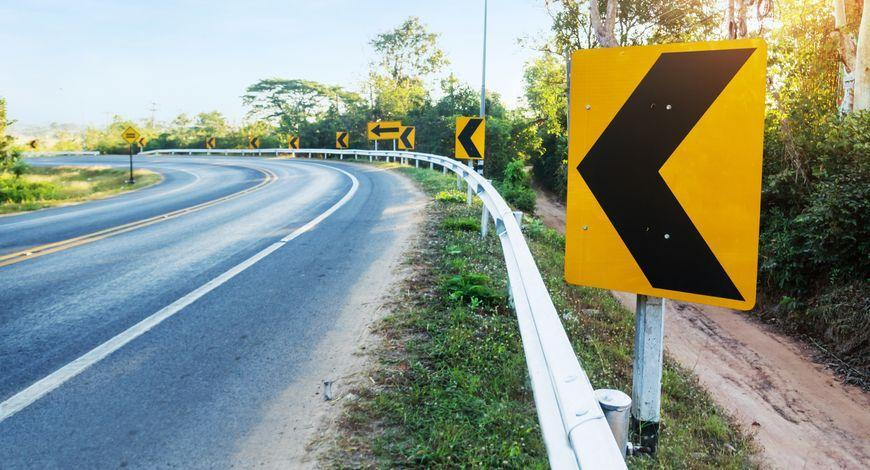indicator: (571, 47, 751, 298), (453, 116, 485, 161), (365, 121, 401, 139), (396, 126, 416, 153), (333, 133, 350, 148), (247, 136, 266, 148), (204, 136, 219, 149), (287, 135, 300, 148), (136, 136, 148, 148)
